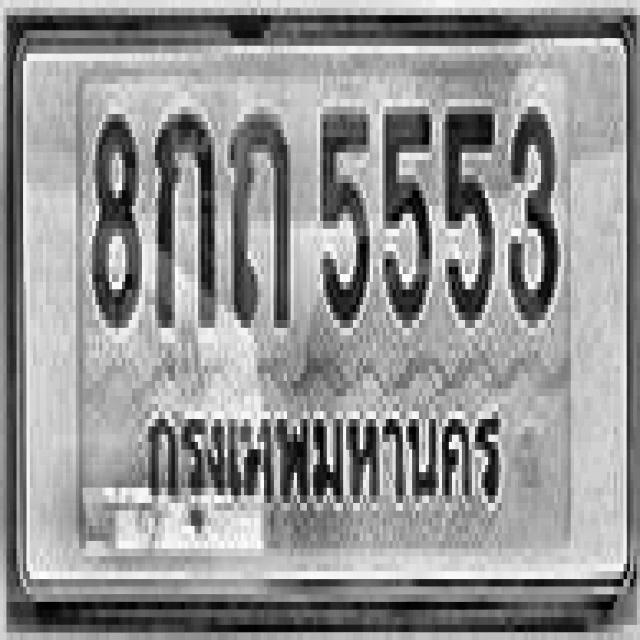license-plate: (20, 36, 628, 591)
